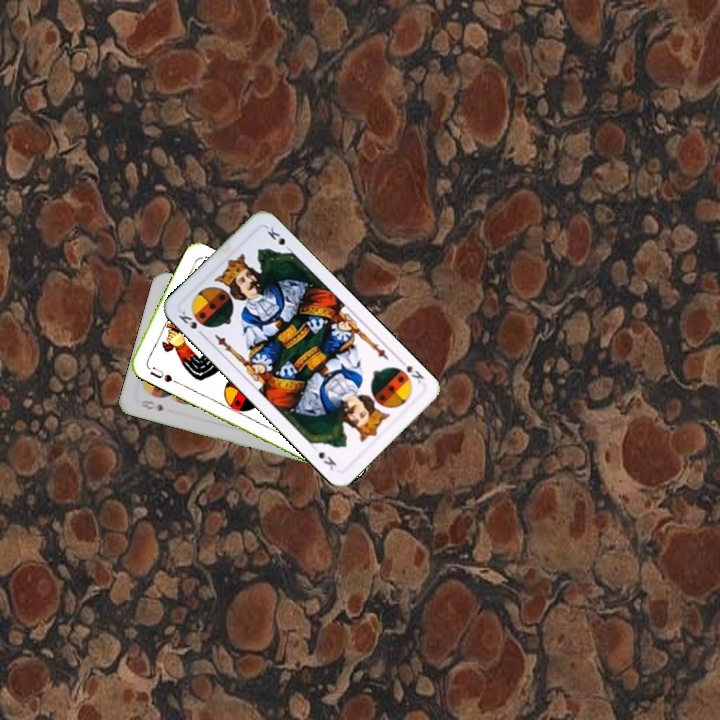S8: (137, 396, 166, 414)
SK: (174, 307, 207, 339), (395, 355, 427, 386)
SU: (146, 362, 180, 386)
